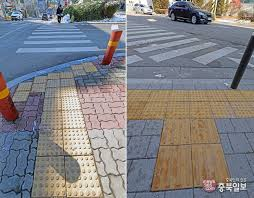guide_blocks: (32, 120, 102, 198), (153, 119, 228, 188), (128, 89, 254, 117), (43, 73, 82, 119), (12, 83, 31, 100), (72, 63, 97, 74)
